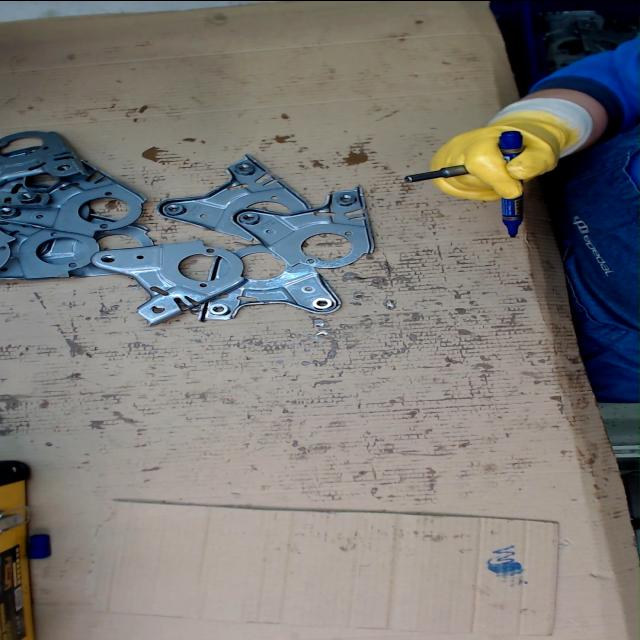hands: (425, 114, 581, 202)
